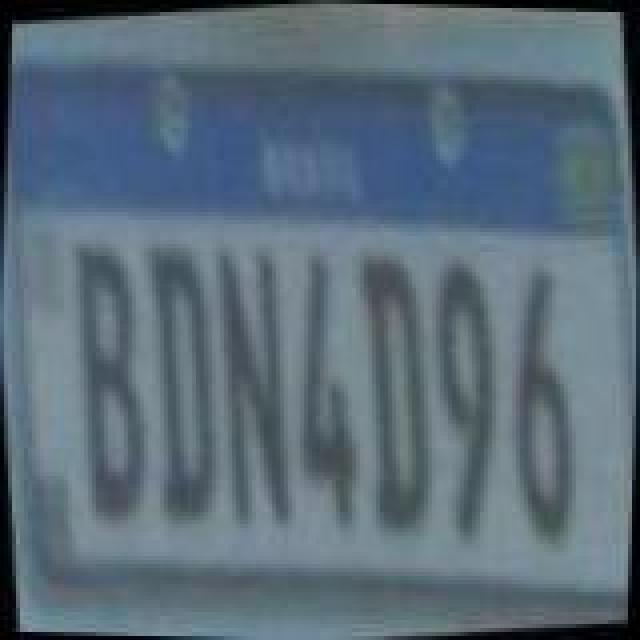4: (276, 246, 372, 538)
6: (492, 260, 588, 548)
9: (420, 258, 516, 546)
B: (54, 226, 162, 526)
D: (130, 234, 230, 526), (348, 248, 444, 540)
N: (200, 238, 304, 534)
